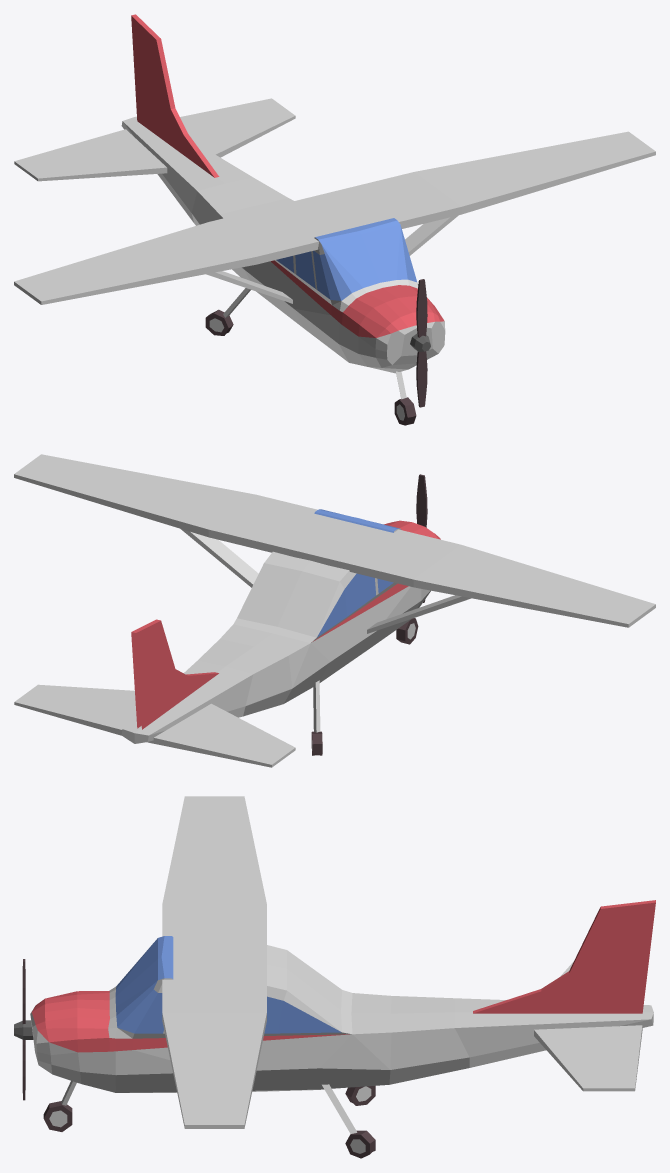
The model's file is char_5.fbx.
3 views of the same model, one above another, from view 1: azimuth 30°, elevation 25°; view 2: azimuth 150°, elevation 25°; view 3: azimuth 270°, elevation 25° (orthographic). The views are drawn at different scales.
Parts seen in each view (by area): view 1: char_5; view 2: char_5; view 3: char_5.
Part boxes in pixels (<box>): char_5: <box>14,14,655,425</box>; char_5: <box>14,454,655,767</box>; char_5: <box>14,796,655,1158</box>.
Size of the model in its own units: 333 by 108 by 275.
